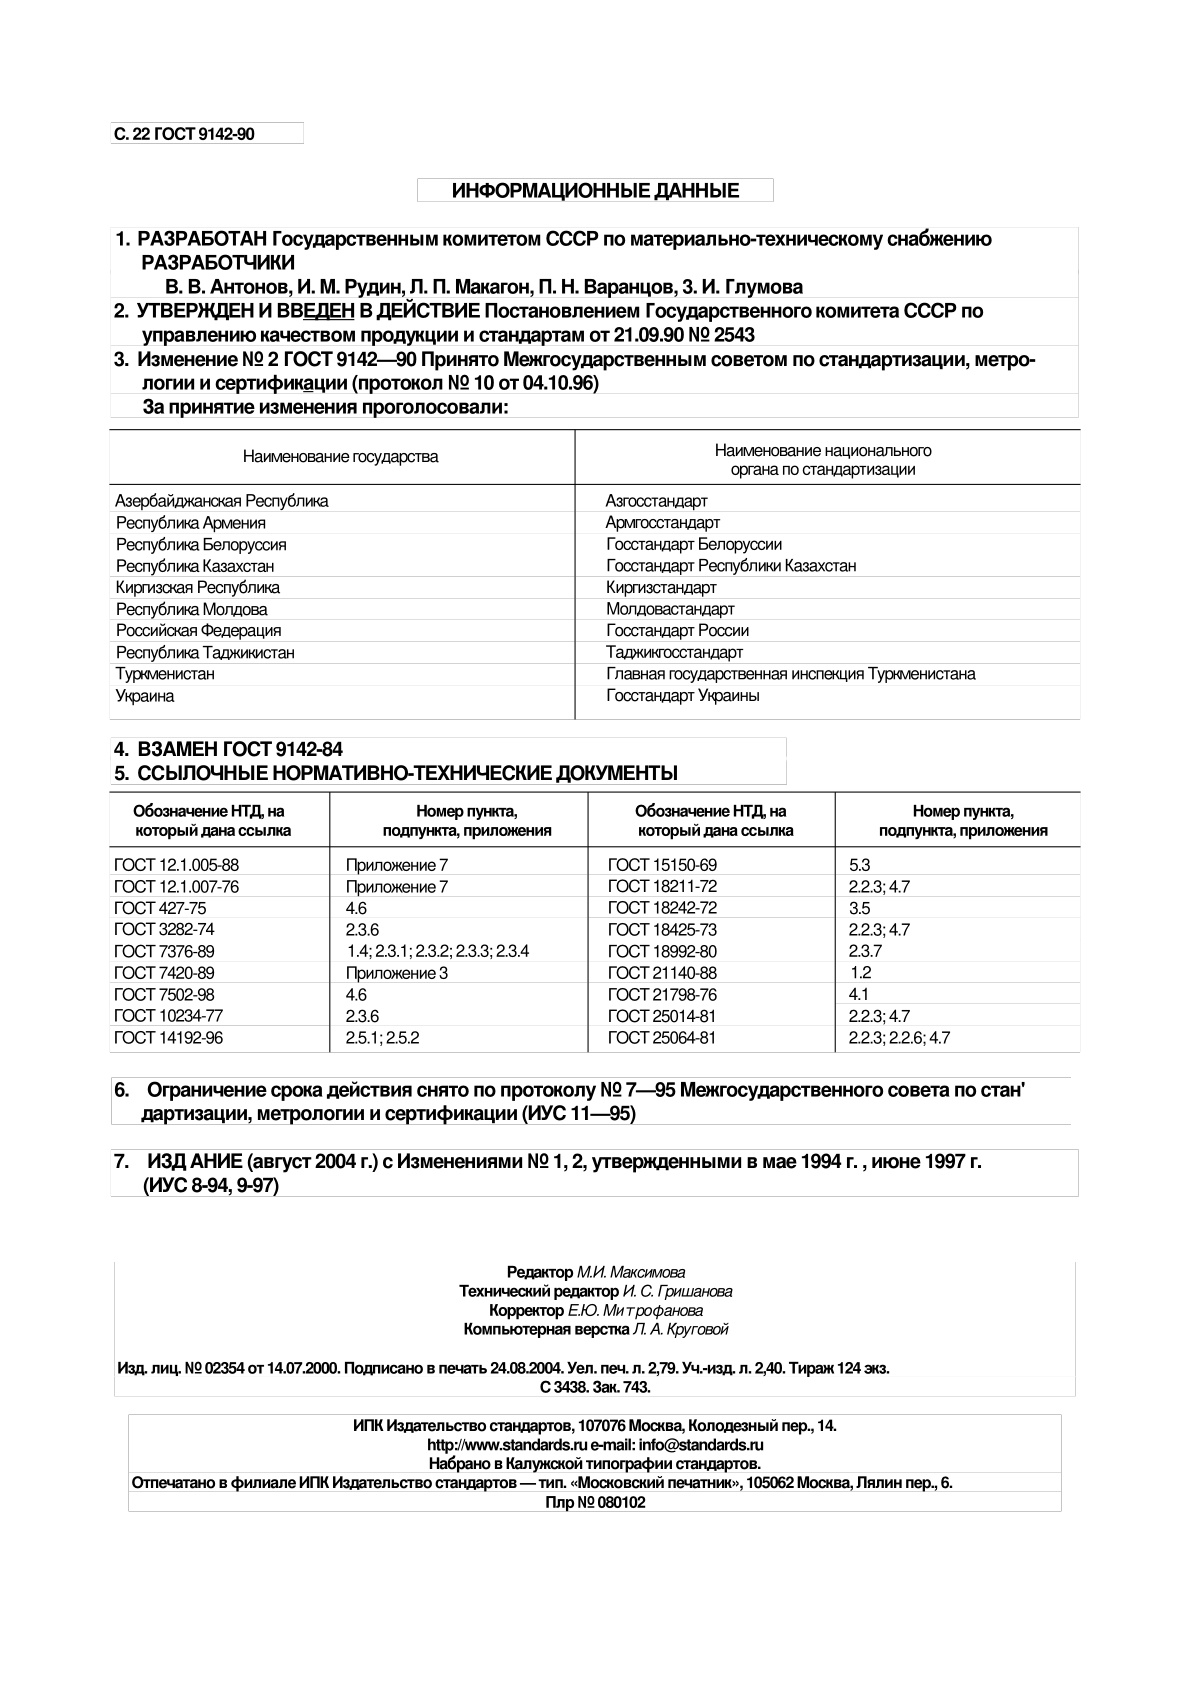partial_lined: (109, 427, 1086, 722), (107, 791, 1084, 1054)
